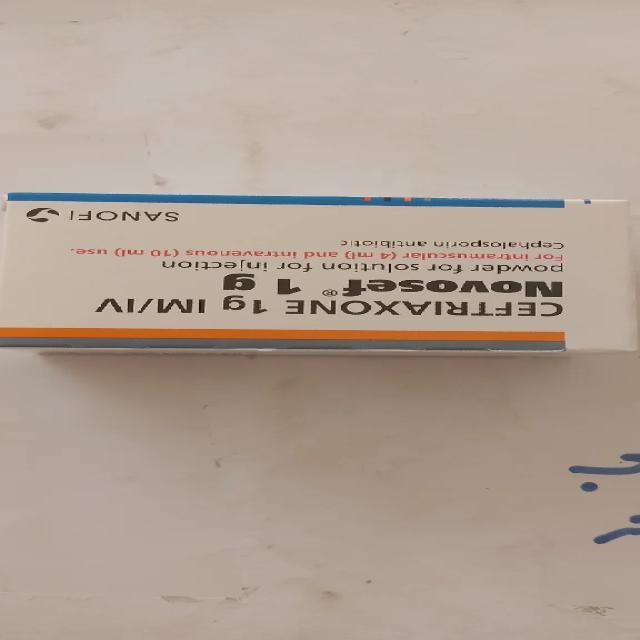drug-name: (322, 277, 567, 298)
